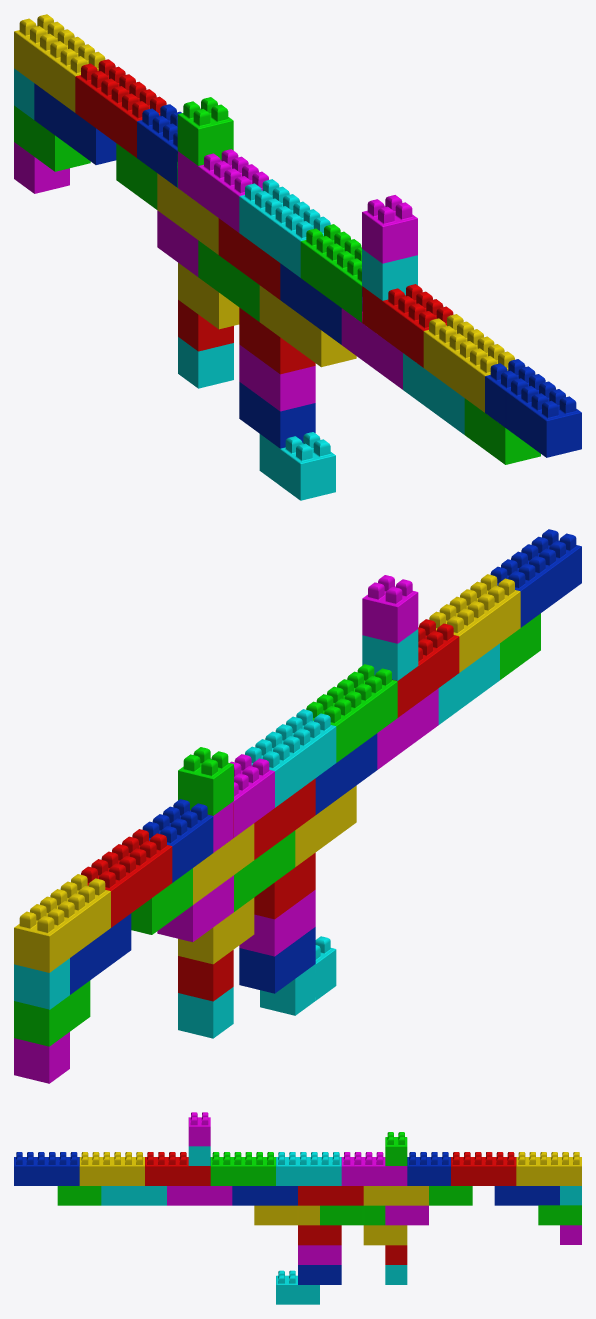
3 renders of one model, top to bottom at view 1: azimuth 30°, elevation 25°; view 2: azimuth 150°, elevation 25°; view 3: azimuth 270°, elevation 25°, orthographic. The views are drawn at different scales.
Parts seen in each view (by area): view 1: klocekx5:klocekx3, klocekx29, klocekx50, klocekx6, klocekx53, klocekx51, klocekx80, klocekx78, klocekx20, klocekx47, klocekx62, klocekx79 (+24 smaller); view 2: klocekx53, klocekx50, klocekx51, klocekx29, klocekx5:klocekx3, klocekx6, klocekx34:klocekx2, klocekx47, klocekx79, klocekx13, klocekx58, klocekx78 (+24 smaller); view 3: klocekx51, klocekx29, klocekx6, klocekx53, klocekx5:klocekx3, klocekx50, klocekx80, klocekx34:klocekx2, klocekx78, klocekx62, klocekx66, klocekx7:klocekx3 (+24 smaller).
Part boxes in pixels (x1,y1,x2,y2): klocekx5:klocekx3: [485, 359, 581, 457]; klocekx29: [75, 59, 166, 157]; klocekx50: [239, 179, 330, 277]; klocekx6: [423, 314, 514, 412]; klocekx53: [14, 14, 105, 112]; klocekx51: [300, 224, 362, 322]; klocekx80: [198, 149, 268, 232]; klocekx78: [382, 284, 453, 367]; klocekx20: [280, 432, 335, 500]; klocekx47: [362, 195, 417, 263]; klocekx62: [259, 285, 356, 367]; klocekx79: [177, 97, 233, 165]; klocekx53: [14, 874, 110, 972]; klocekx50: [245, 709, 336, 807]; klocekx51: [306, 664, 397, 762]; klocekx29: [81, 829, 172, 927]; klocekx5:klocekx3: [490, 529, 581, 627]; klocekx6: [429, 574, 520, 672]; klocekx34:klocekx2: [142, 799, 213, 882]; klocekx47: [362, 575, 418, 643]; klocekx79: [178, 747, 233, 815]; klocekx13: [239, 927, 315, 993]; klocekx58: [14, 980, 90, 1046]; klocekx78: [418, 619, 459, 702]; klocekx51: [210, 1152, 275, 1185]; klocekx29: [451, 1152, 516, 1185]; klocekx6: [79, 1152, 144, 1185]; klocekx53: [516, 1152, 581, 1185]; klocekx5:klocekx3: [14, 1152, 79, 1185]; klocekx50: [276, 1152, 341, 1185]; klocekx80: [341, 1152, 385, 1185]; klocekx34:klocekx2: [407, 1152, 450, 1185]; klocekx78: [145, 1152, 188, 1185]; klocekx62: [254, 1205, 319, 1225]; klocekx66: [320, 1205, 385, 1225]; klocekx7:klocekx3: [101, 1186, 166, 1205].
Size of the model in its own units: 3.01 by 28 by 77.99.
